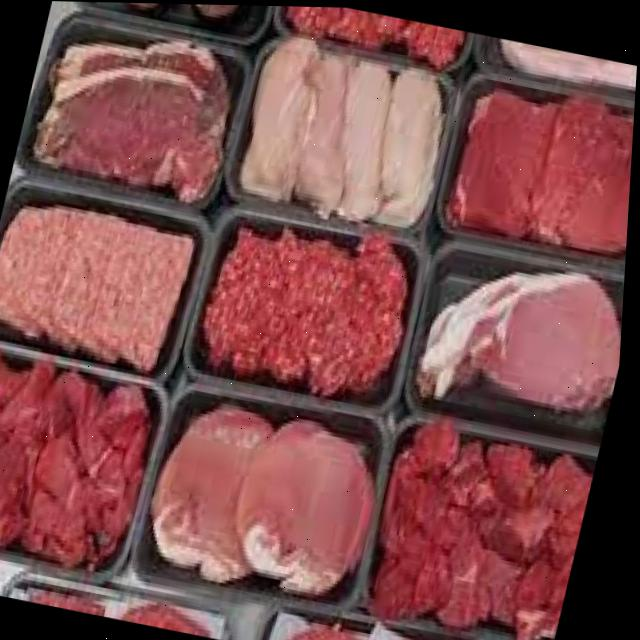Wet: (0, 0, 640, 640), (135, 373, 402, 614), (390, 226, 630, 451), (371, 414, 603, 640), (197, 199, 432, 409), (236, 25, 460, 238), (431, 55, 638, 259), (0, 186, 209, 380), (16, 29, 237, 206), (0, 353, 169, 574)
